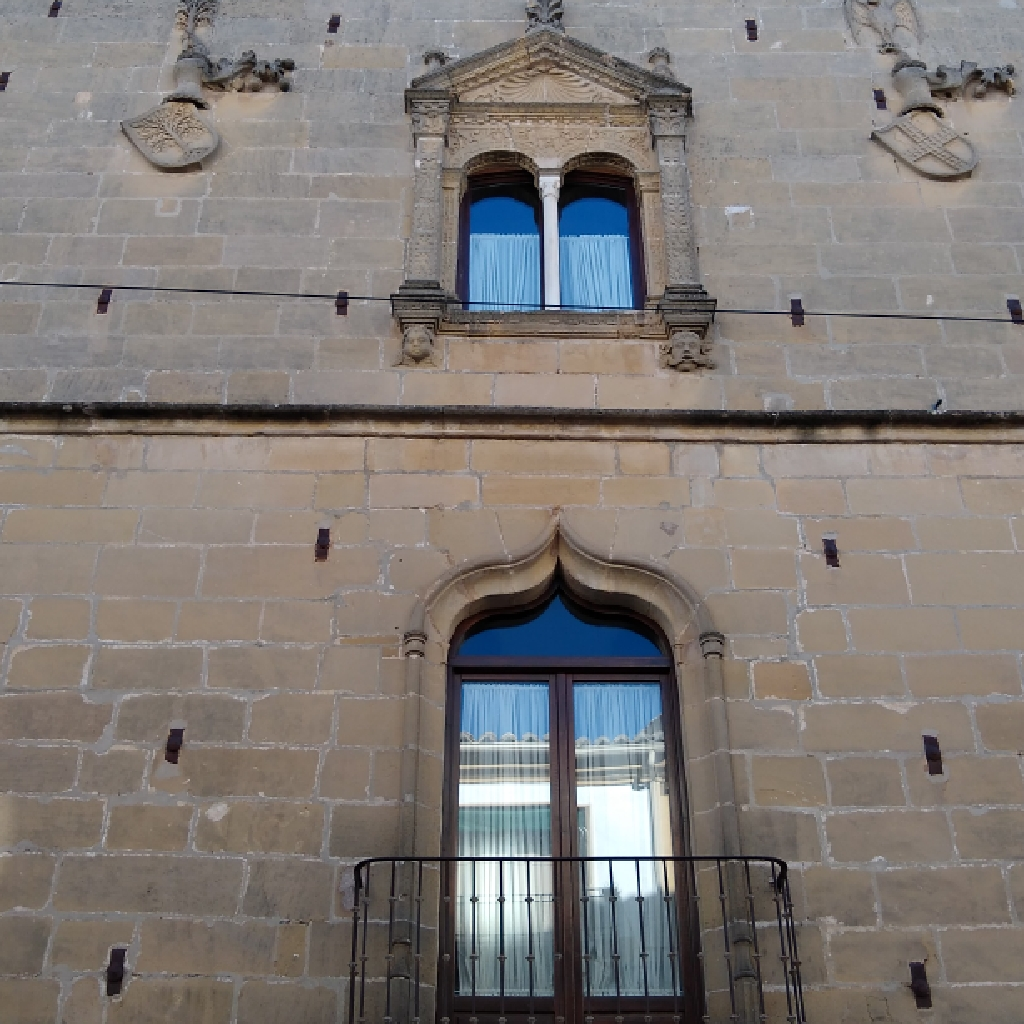arco-conopial: (411, 508, 718, 653)
fronton: (398, 25, 702, 113)
